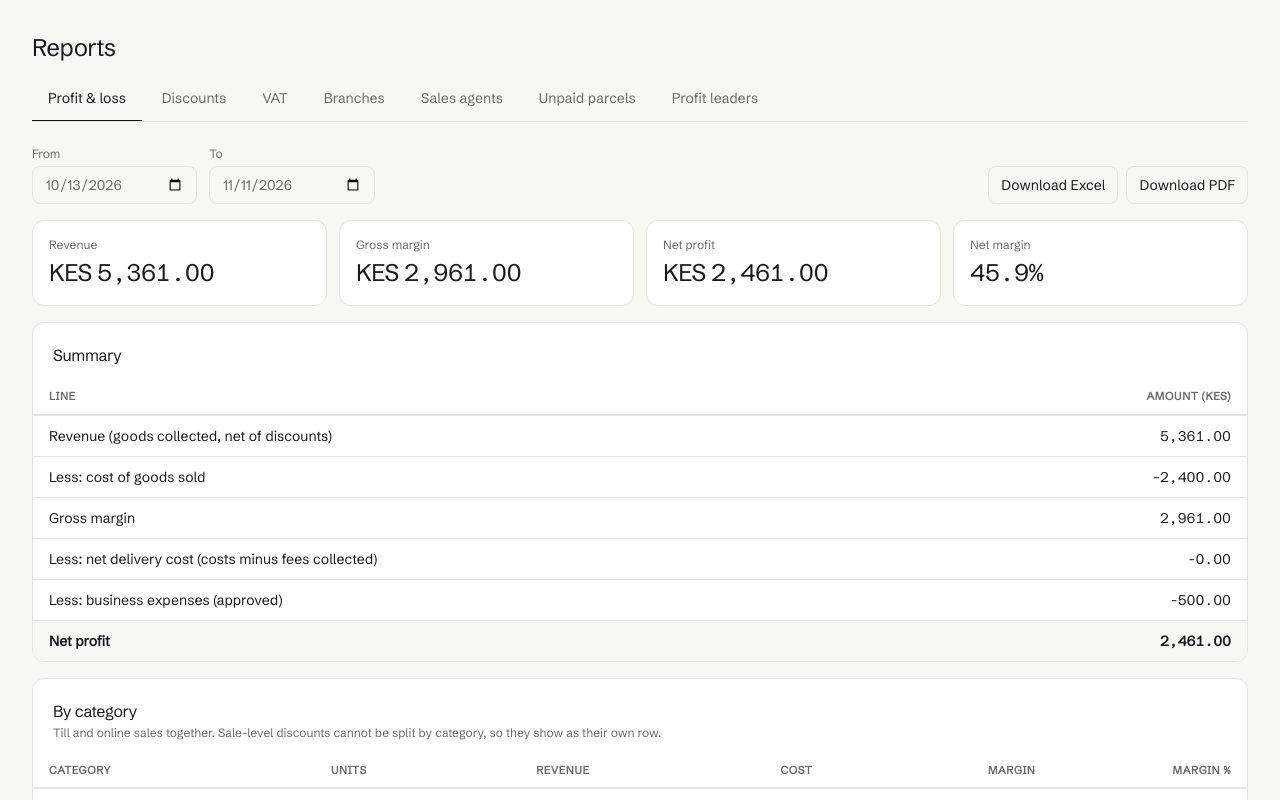
Test case: Reports page › switches to the VAT tab and labels it as an estimate
Click the tab "VAT" at (275,99), box [246,76,304,122]
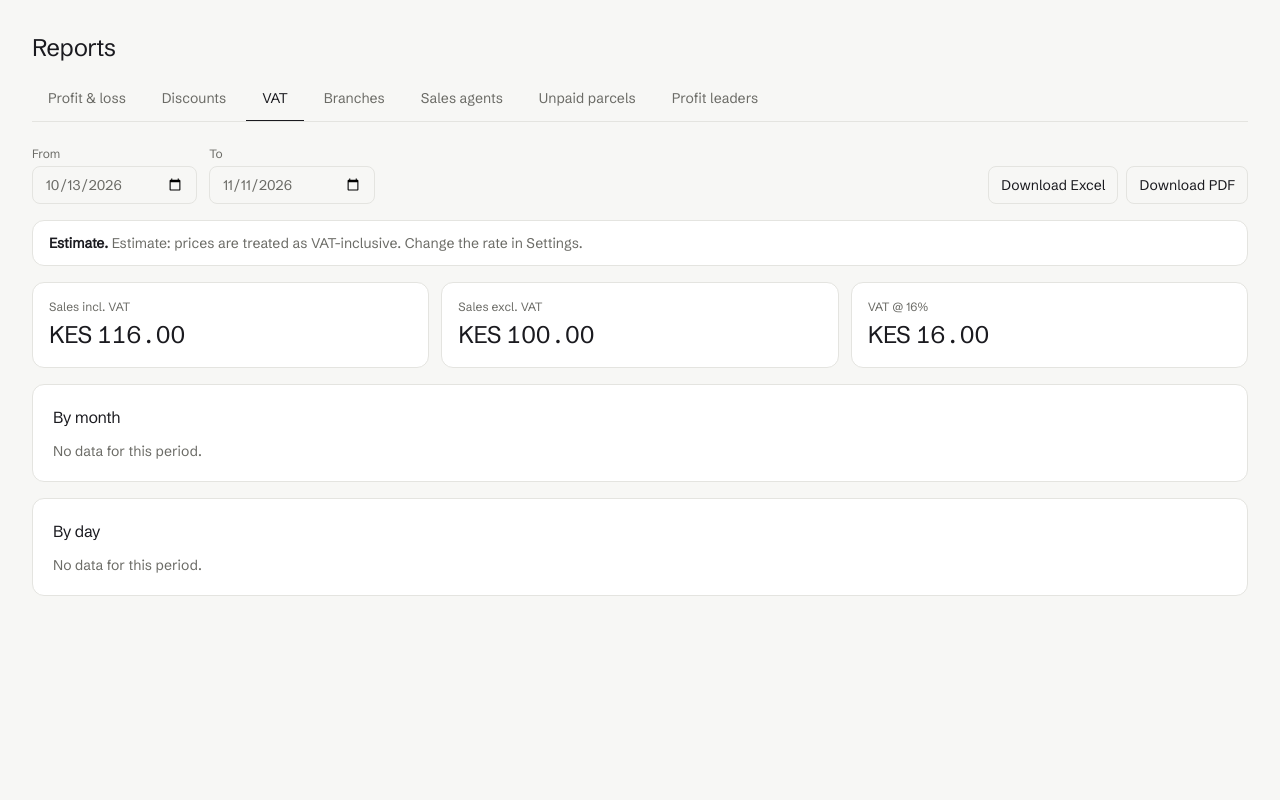
Check: the text "Estimate." is shown, box [49,234,108,252]
Check: the text "KES 16.00" is shown, box [868,320,989,349]
